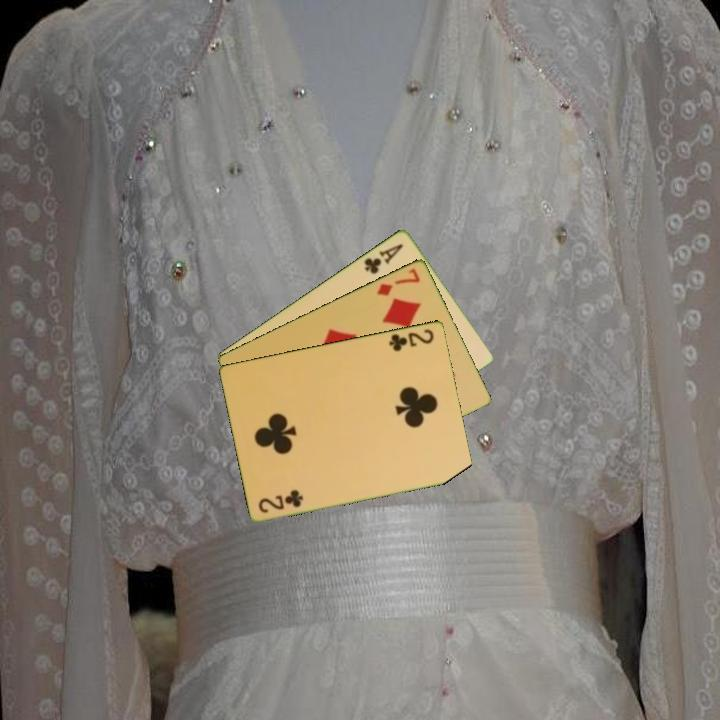2c: (386, 325, 437, 354), (255, 487, 306, 515)
7d: (374, 264, 423, 298)
Ac: (360, 239, 406, 277)
